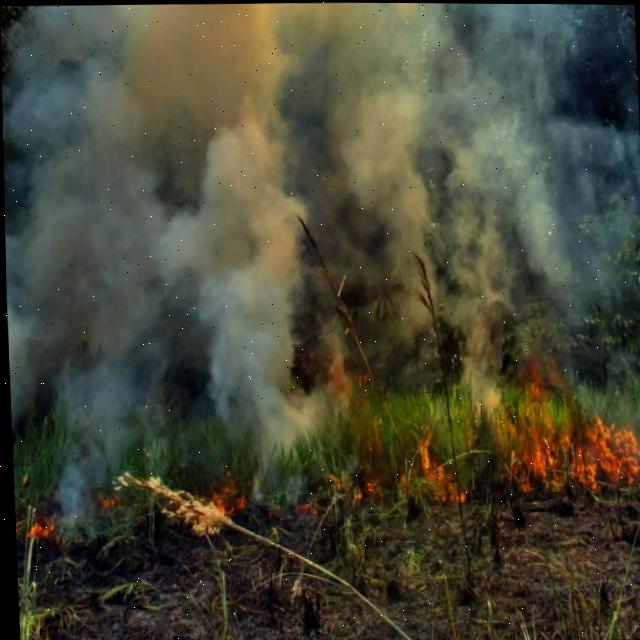fire: (498, 423, 640, 497)
smoke: (0, 2, 640, 423)
